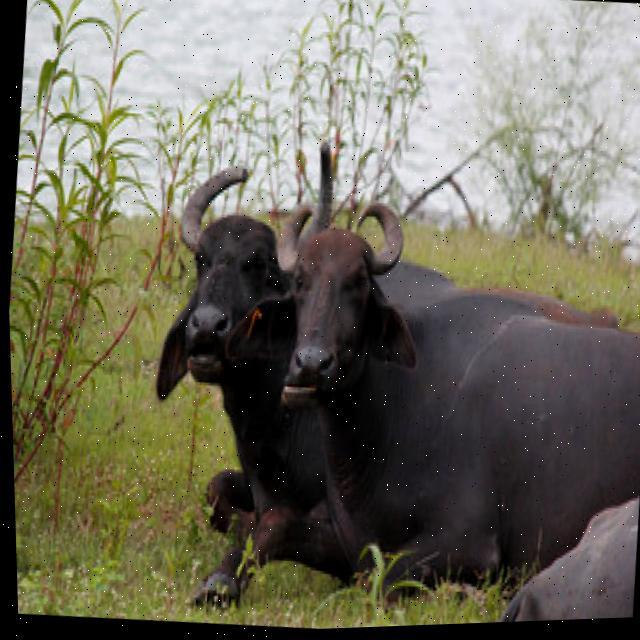Buffalo: (249, 183, 640, 566)
